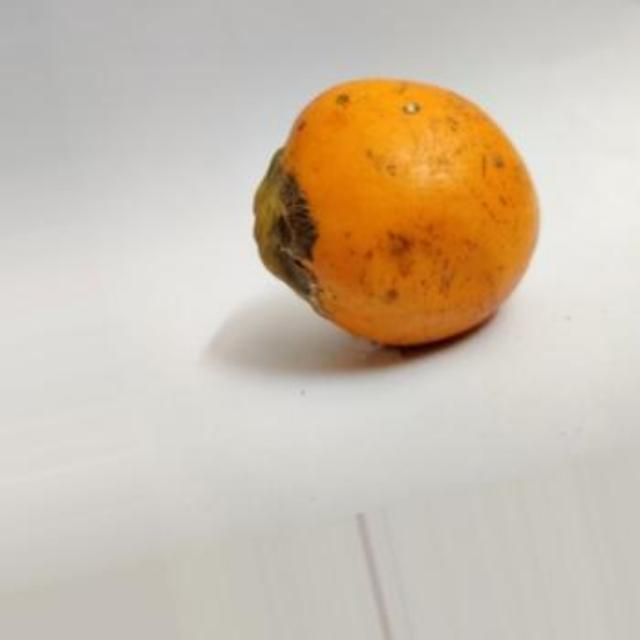good: (252, 79, 541, 349)
